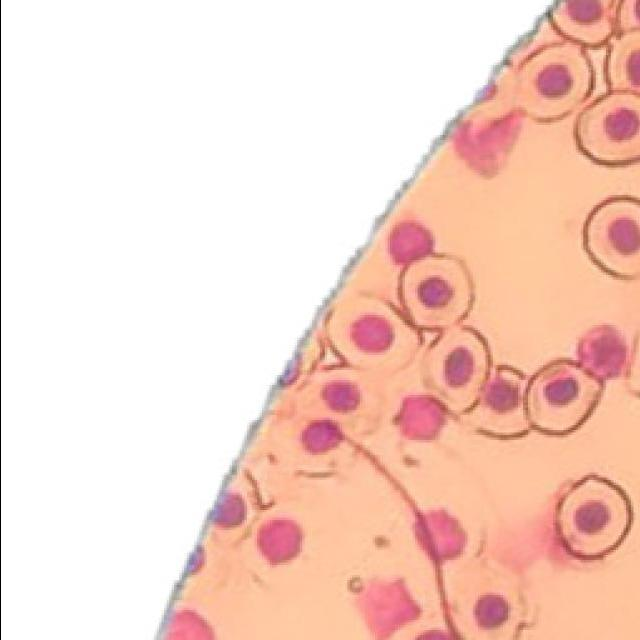RBC: (326, 296, 419, 371), (556, 475, 631, 560), (524, 360, 602, 435), (423, 328, 491, 414), (294, 368, 380, 436), (519, 42, 591, 120), (399, 255, 473, 329), (460, 366, 530, 439), (576, 92, 640, 165), (584, 196, 640, 279), (551, 0, 611, 45), (606, 31, 640, 92)
WBC: (452, 110, 523, 178), (358, 580, 419, 639), (414, 510, 466, 562), (577, 325, 626, 380), (395, 396, 445, 440), (258, 520, 301, 565), (388, 222, 433, 265), (164, 610, 213, 640), (302, 420, 343, 454), (211, 492, 246, 528), (474, 594, 508, 629)
